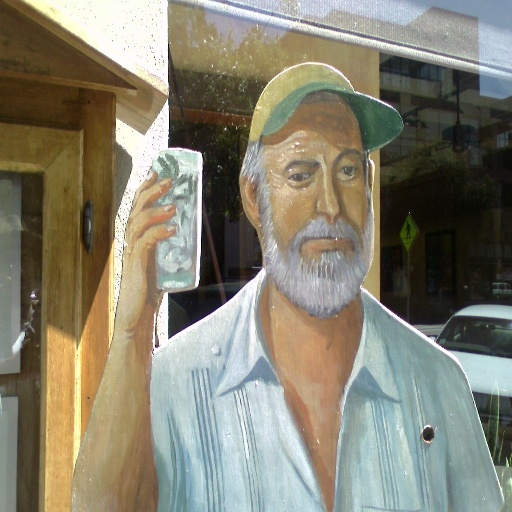hand: (112, 162, 177, 326)
